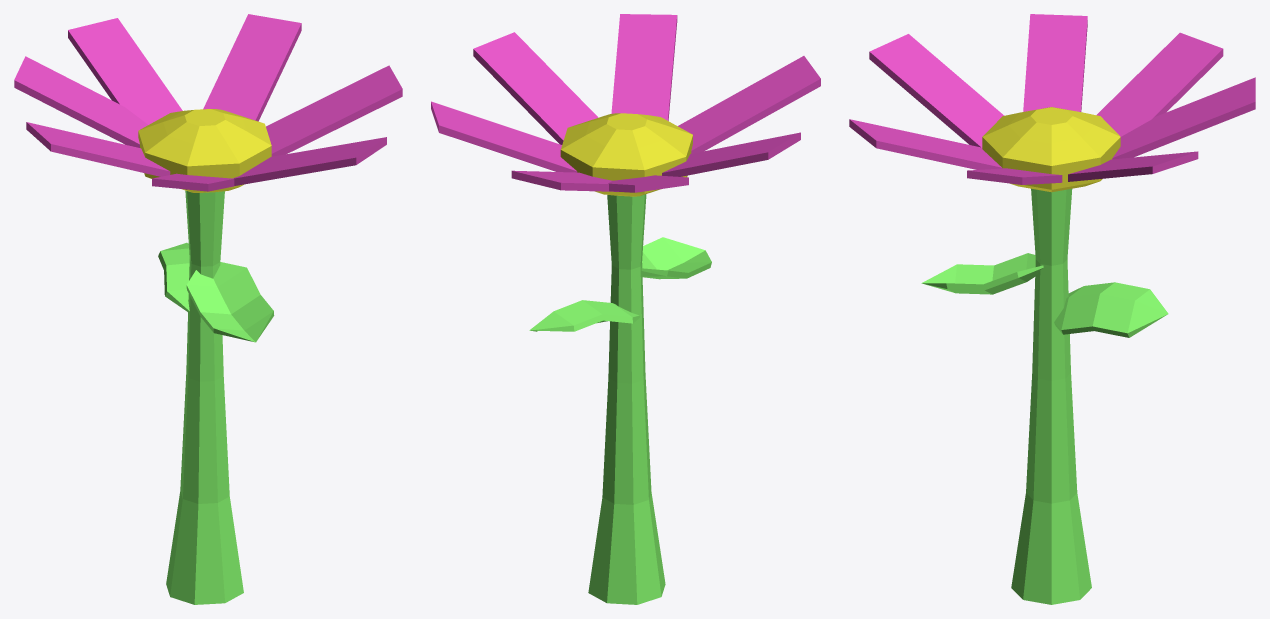
The model's file is florosa.fbx.
The picture shows the model from 3 angles, left to right: view 1: azimuth 30°, elevation 25°; view 2: azimuth 150°, elevation 25°; view 3: azimuth 270°, elevation 25°; orthographic projection.
Parts seen in each view (by area): view 1: Circle.004; view 2: Circle.004; view 3: Circle.004.
Part boxes in pixels (x1,y1,x2,y2): Circle.004: [14, 14, 402, 604]; Circle.004: [431, 14, 820, 604]; Circle.004: [849, 14, 1255, 604].
Bounding box in the file's own units: 72.78 × 102 × 76.48.
